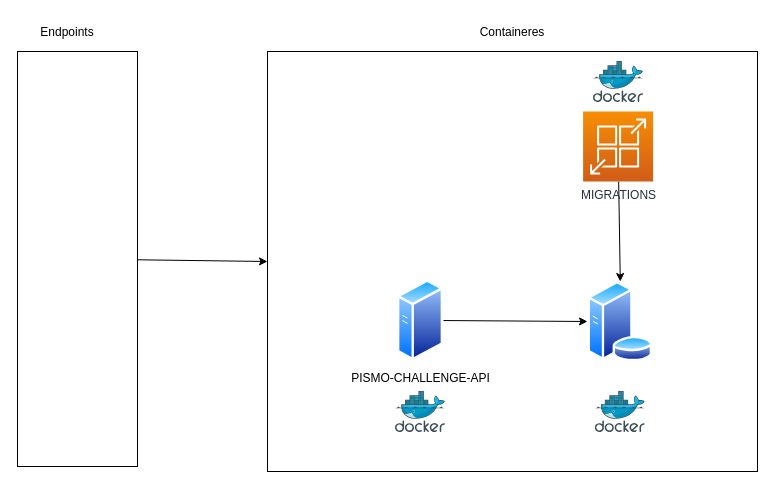
Image size: 775x489. Some labels were removed from this diagram. The shapes that lost their labels are listed below. From the top down, each one's centre as x and y in pixels, then its label:
At point (77, 258): "GET - /accounts/:id POST - /accounts POST - /transactions".
At point (620, 321): "PISMO-CHALLENGE-DB".
